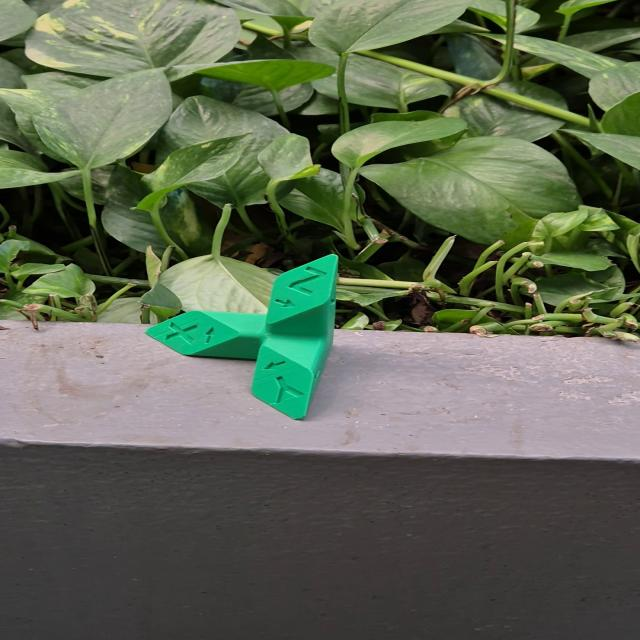objects: (142, 253, 340, 421)
